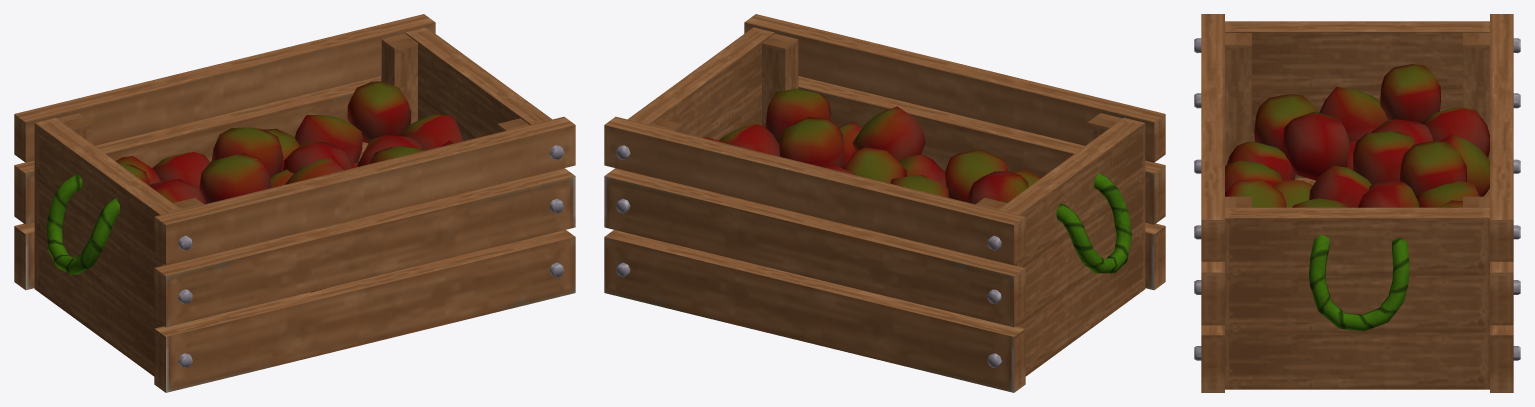
The model's file is FarmCrate_Apple.glb.
3 views of the same model, side by side, from view 1: azimuth 30°, elevation 25°; view 2: azimuth 150°, elevation 25°; view 3: azimuth 270°, elevation 25° (orthographic). The views are drawn at different scales.
Visible parts, largest first — view 1: FarmCrate_Apple; view 2: FarmCrate_Apple; view 3: FarmCrate_Apple.
Boxes of the visible parts, bbox=[...] form: FarmCrate_Apple: bbox=[14, 14, 575, 392]; FarmCrate_Apple: bbox=[604, 14, 1165, 392]; FarmCrate_Apple: bbox=[1194, 14, 1520, 392].
Bounding box in the file's own units: 0.7138 × 0.2437 × 0.4142.
3 materials, 3 textured.
